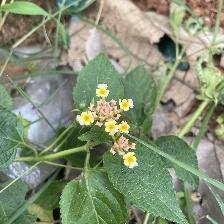common lanthana: (77, 84, 151, 170)
